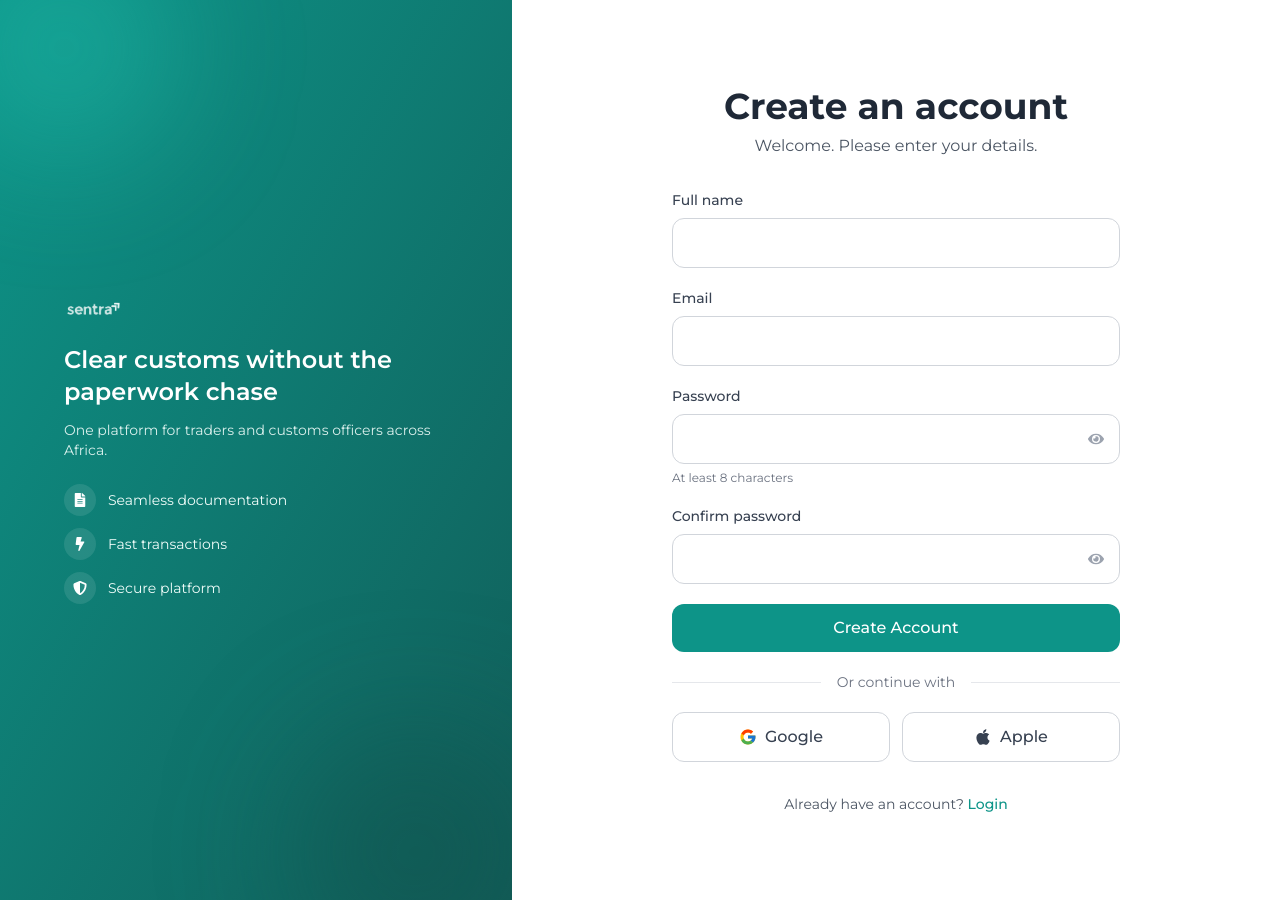
Test: TraderSignup validation › flags a password under 8 characters
The width and height of the screenshot is (1280, 900).
Step 1. Type "Jane Doe" into the field labelled "Full name" → (896, 243), box [672,218,1120,268]
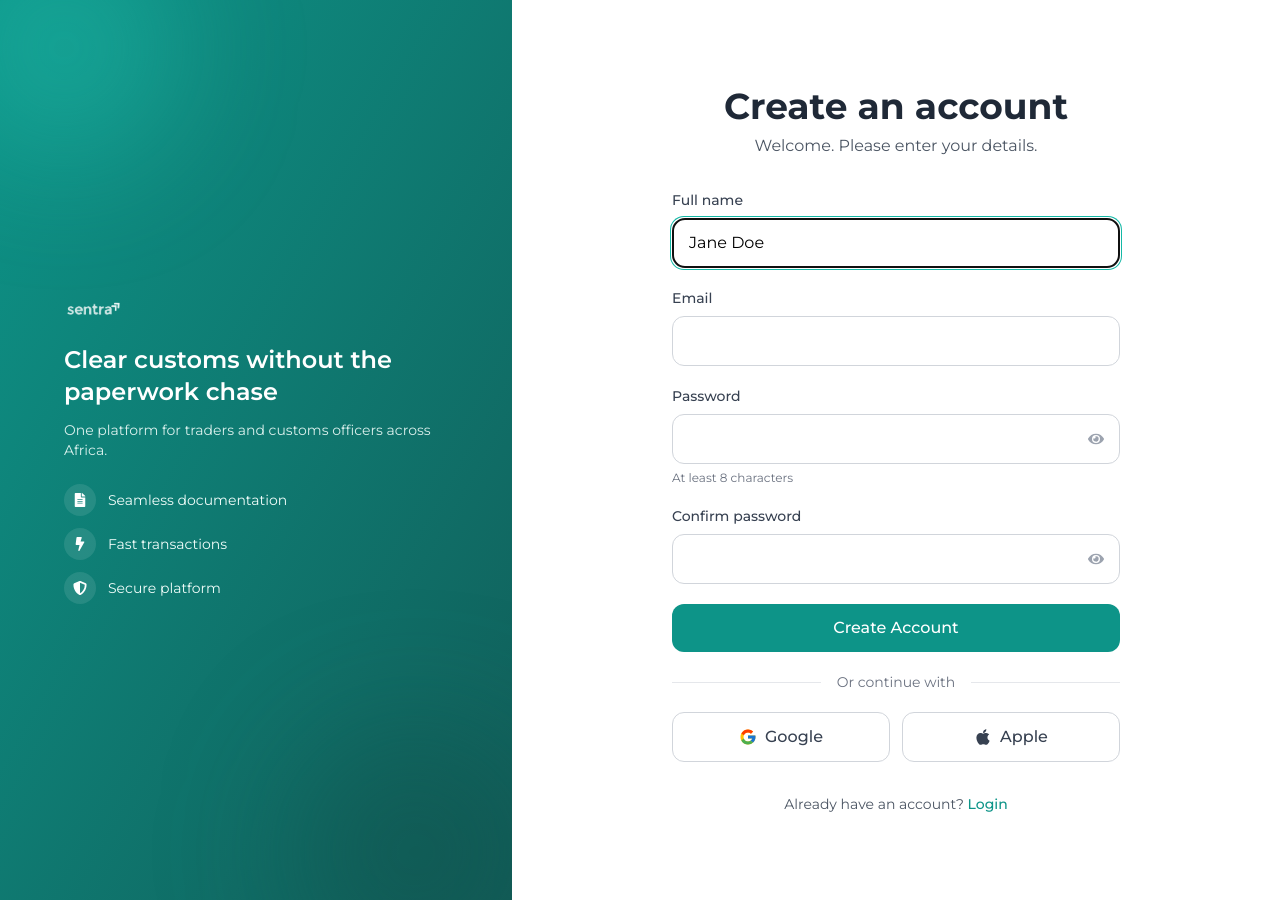
Step 2. Type "jane@example.com" into the field labelled "Email" → (896, 341), box [672,316,1120,366]
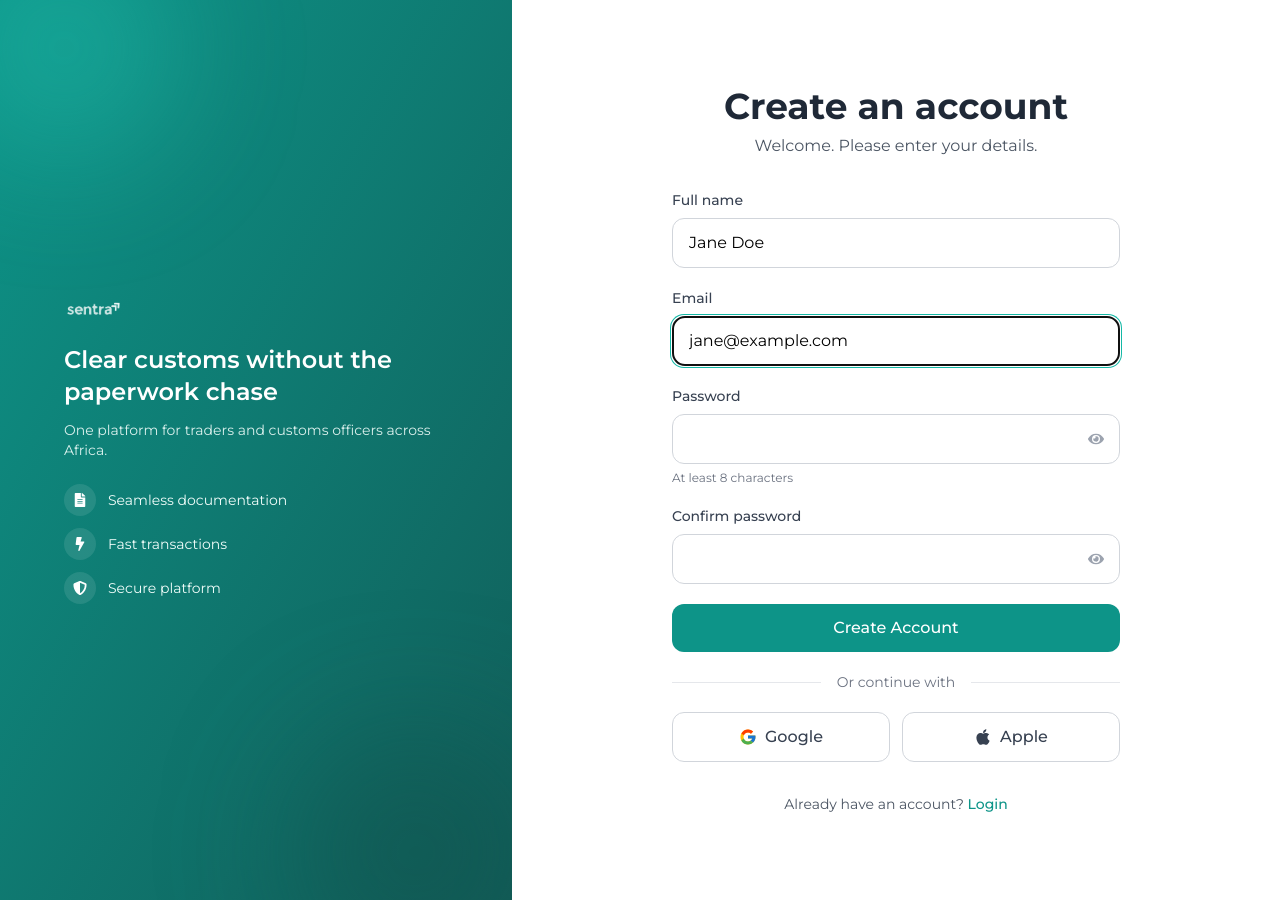
Step 3. Type "short" into the password field labelled "Password" → (896, 439), box [672,414,1120,464]
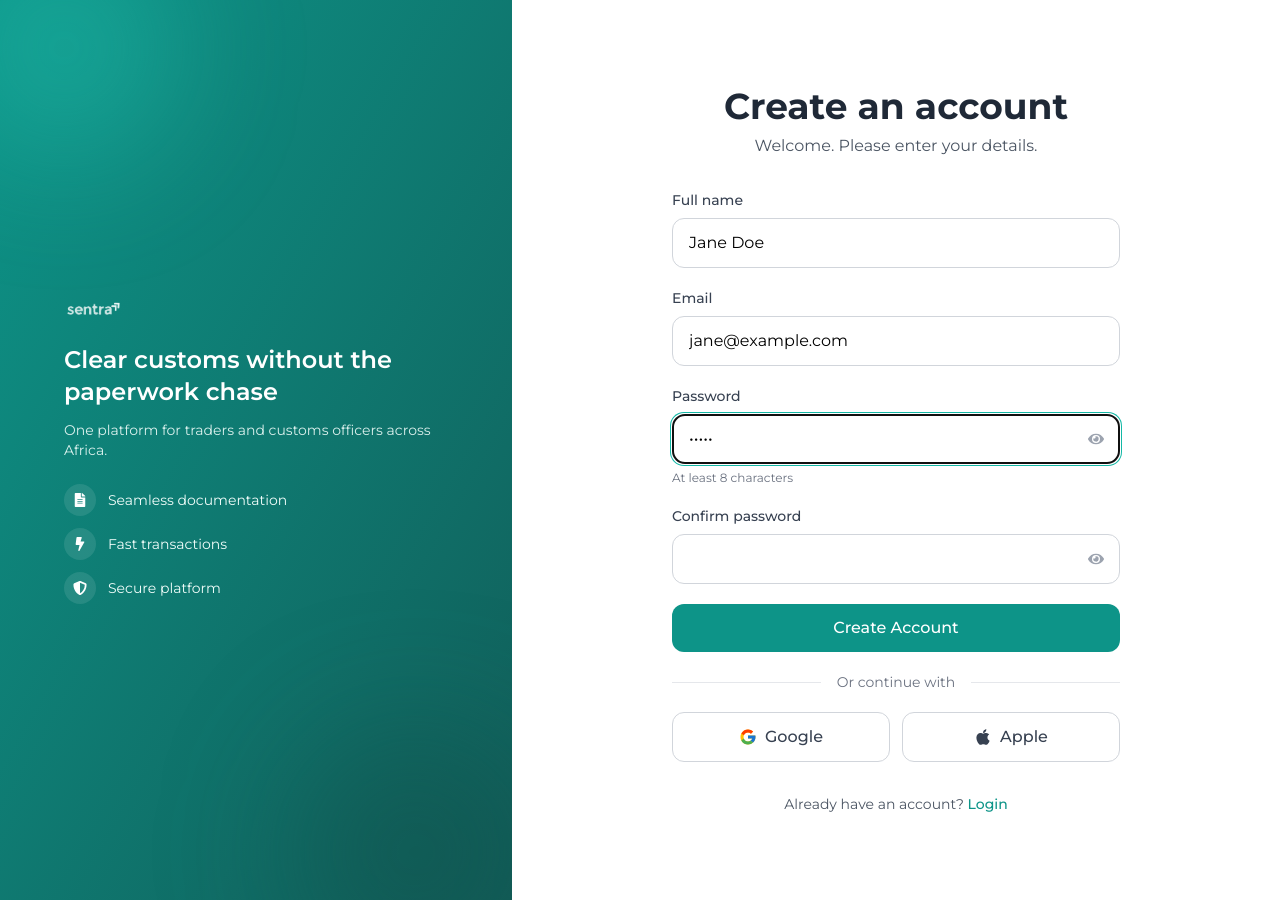
Step 4. Type "short" into the password field labelled "Confirm password" → (896, 559), box [672,534,1120,584]
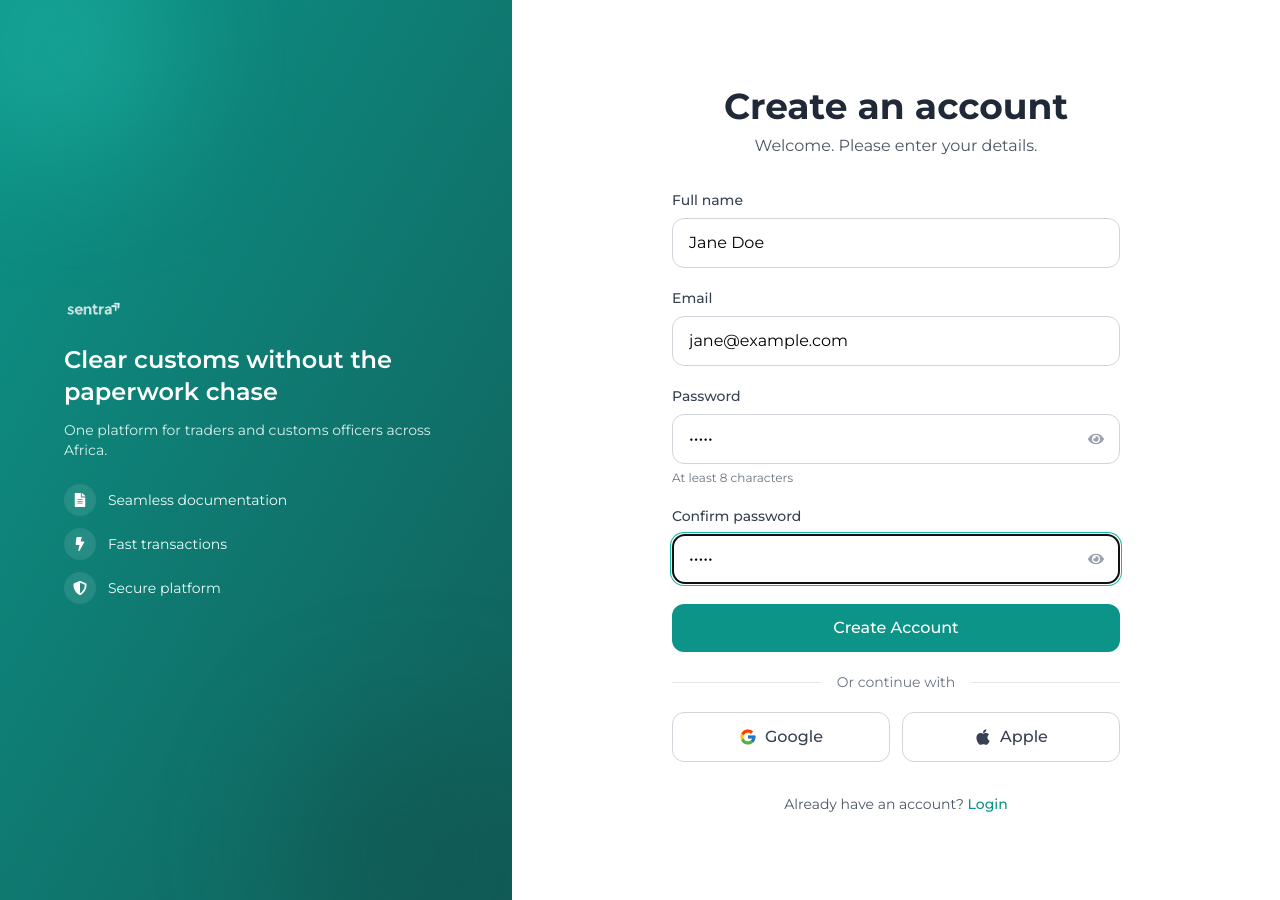
Step 5. Click the button "Create Account" → (896, 628), box [672,604,1120,652]
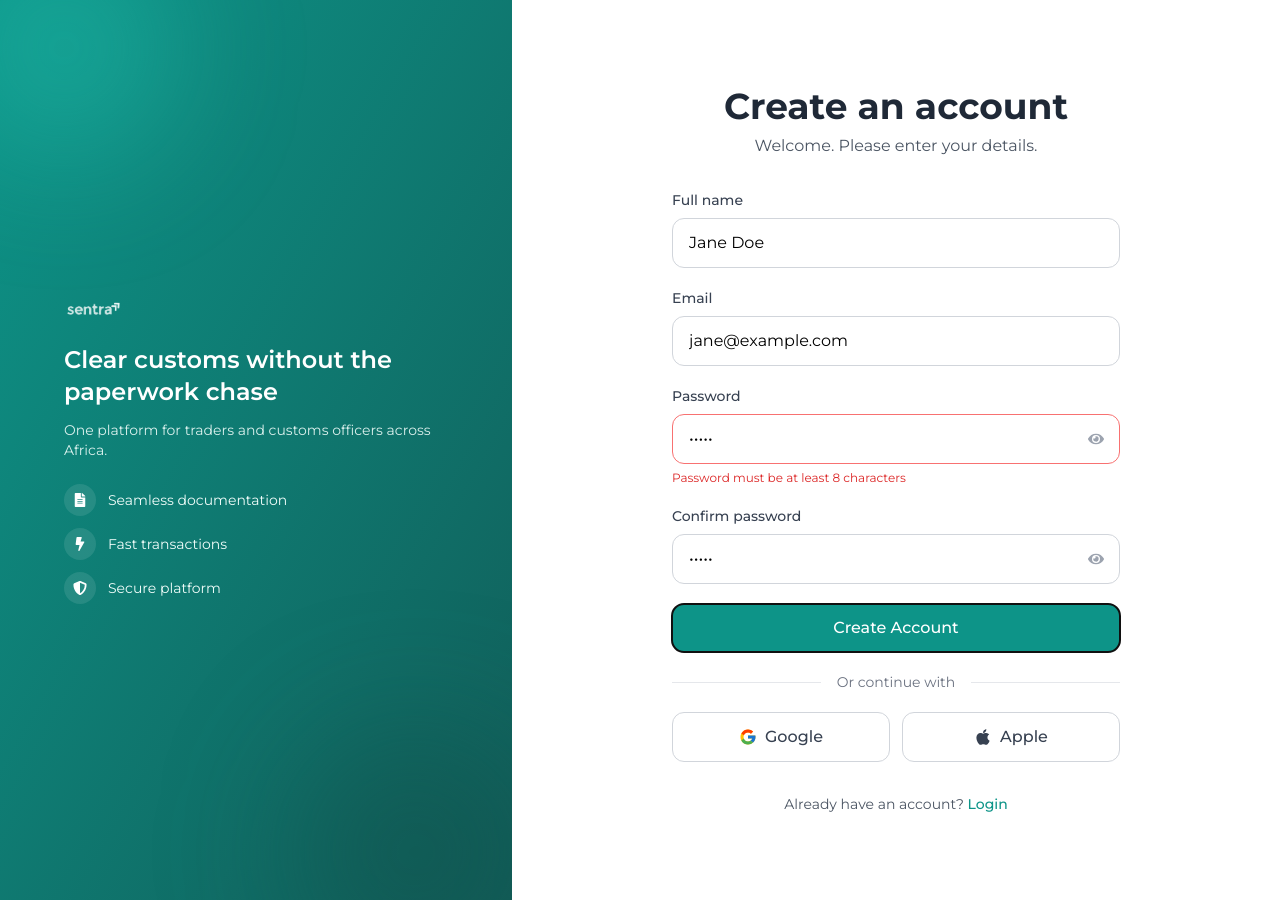
expect the text "Password must be at least 8 characters" is shown: met, box [672,470,906,485]
